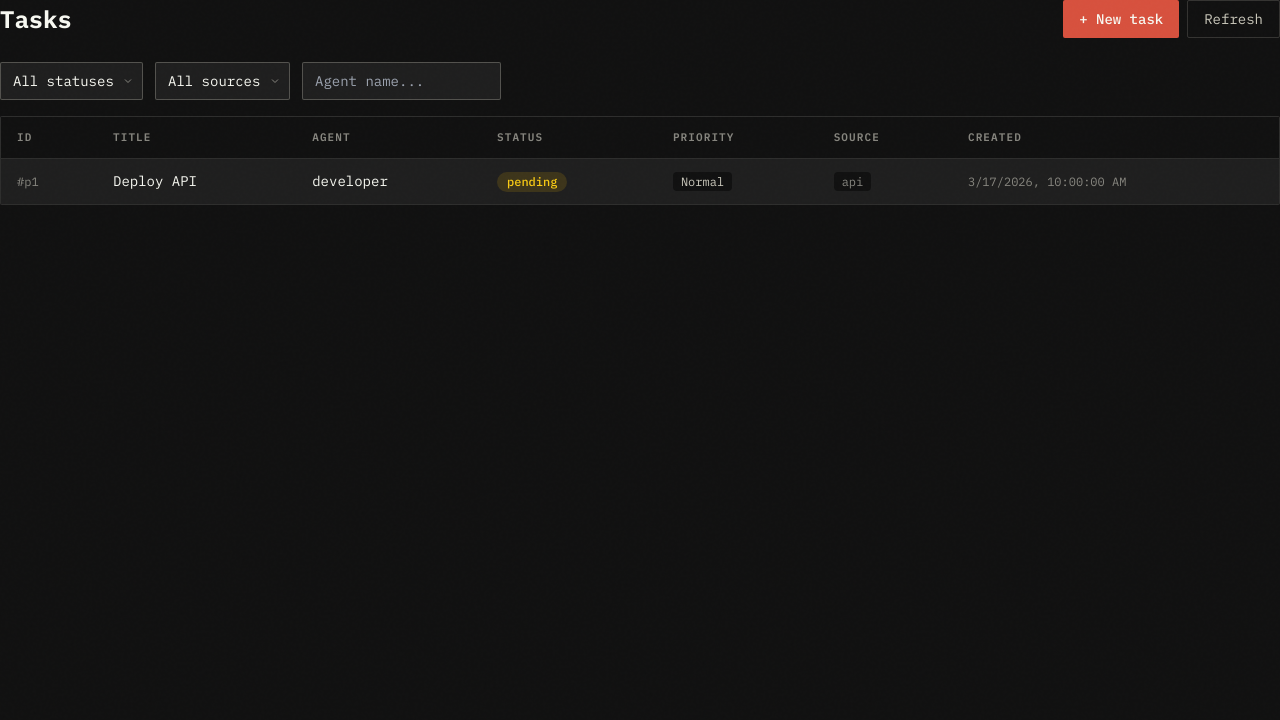
Test: TasksPage › displays acceptance criteria and blocked_by chips in detail panel
Click the text "Deploy API" at (155, 181), box left=113, top=172, right=197, bottom=190
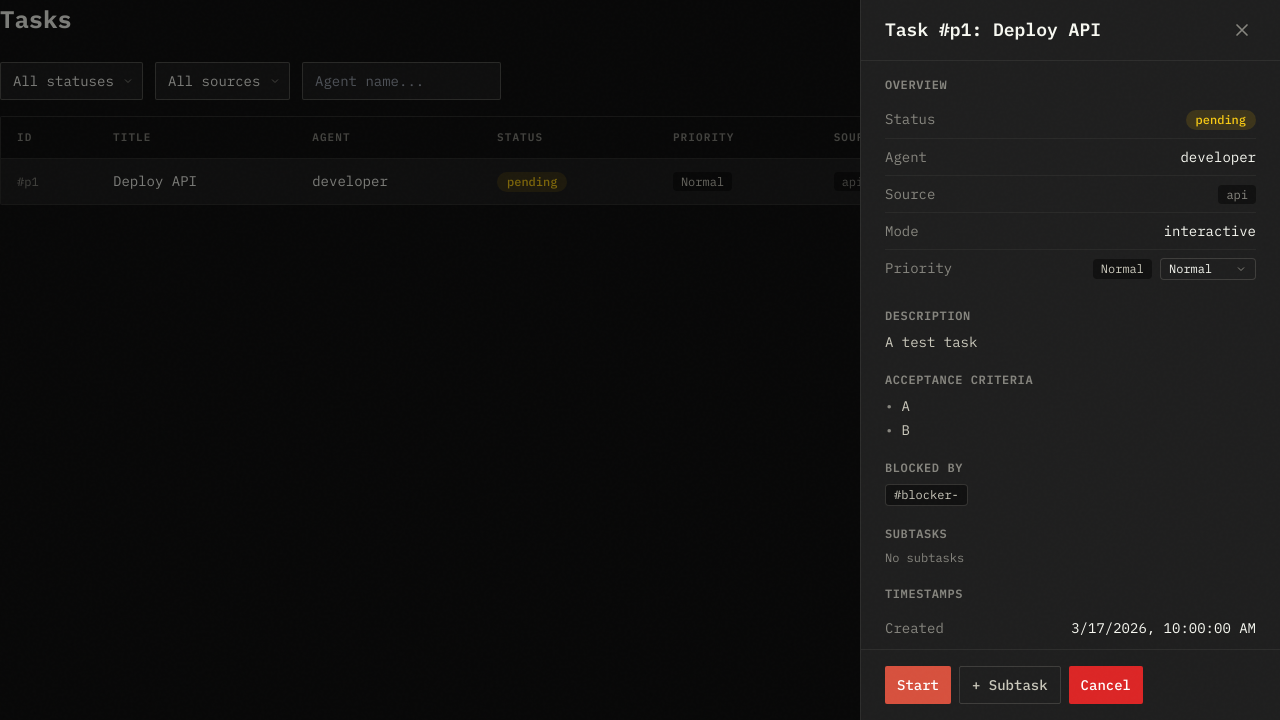
Expected: the heading "Acceptance criteria" is shown, left=885, top=372, right=1033, bottom=387
Expected: the text "A" is shown, left=901, top=396, right=910, bottom=416
Expected: the text "B" is shown, left=901, top=420, right=910, bottom=440
